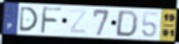5: (141, 11, 159, 38)
7: (92, 8, 111, 37)
D: (114, 10, 140, 38), (18, 6, 39, 32)
F: (40, 5, 64, 35)
Z: (68, 8, 89, 36)
